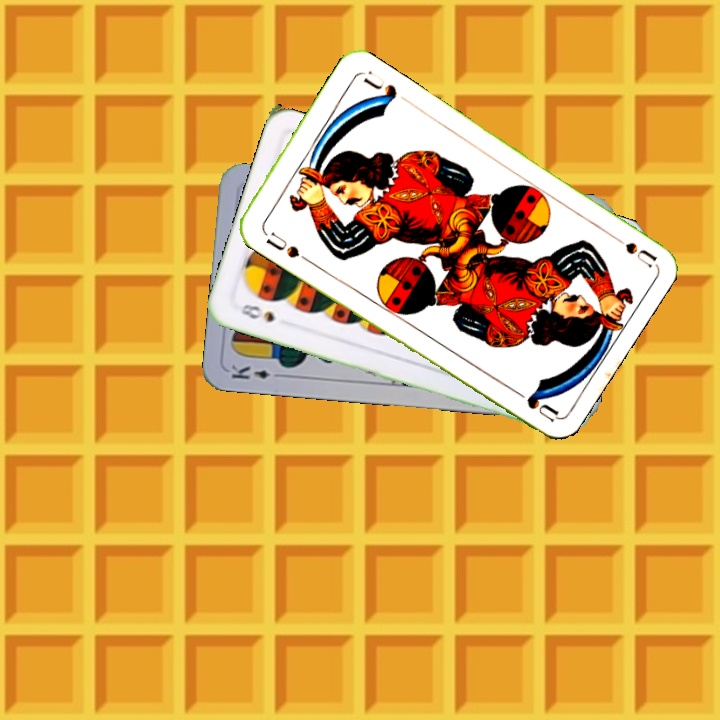EK: (227, 361, 286, 382)
S8: (236, 299, 277, 325)
SU: (603, 228, 658, 269), (258, 225, 302, 261)
